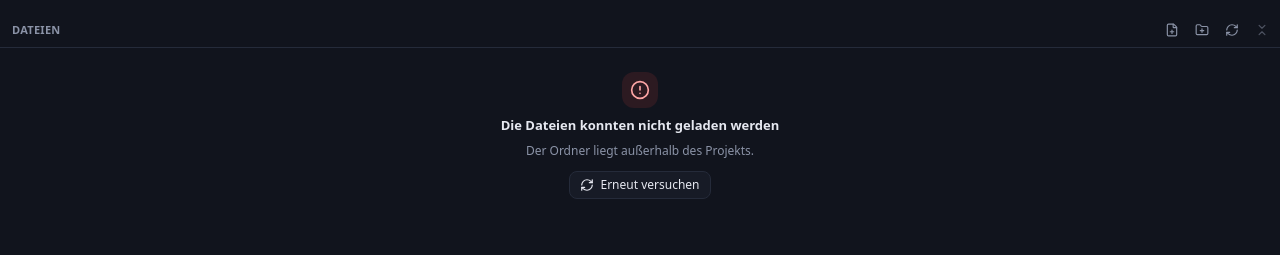
Test case: FileTree › shows load errors with a retry
Expected: the text "Die Dateien konnten nicht geladen werden" is shown, [501,116,779,135]
What coordinates should you click on to do the following:
click the button "Erneut versuchen"
I would click on:
 (640, 185)
Its box is [570,171,710,199].
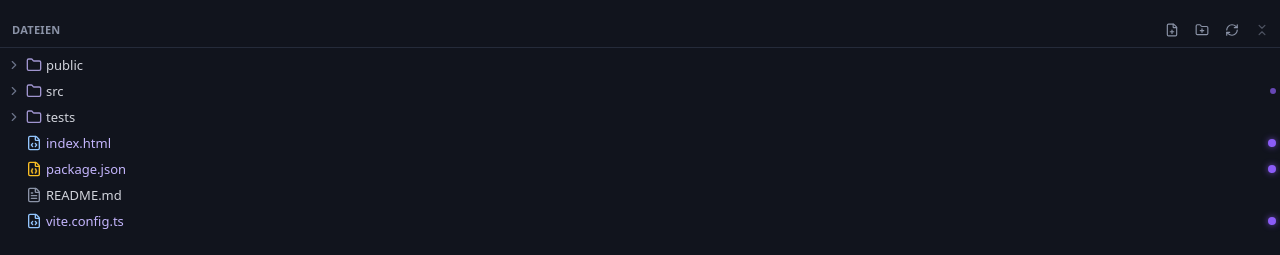
Now the element named "Projektdateien" is shown
